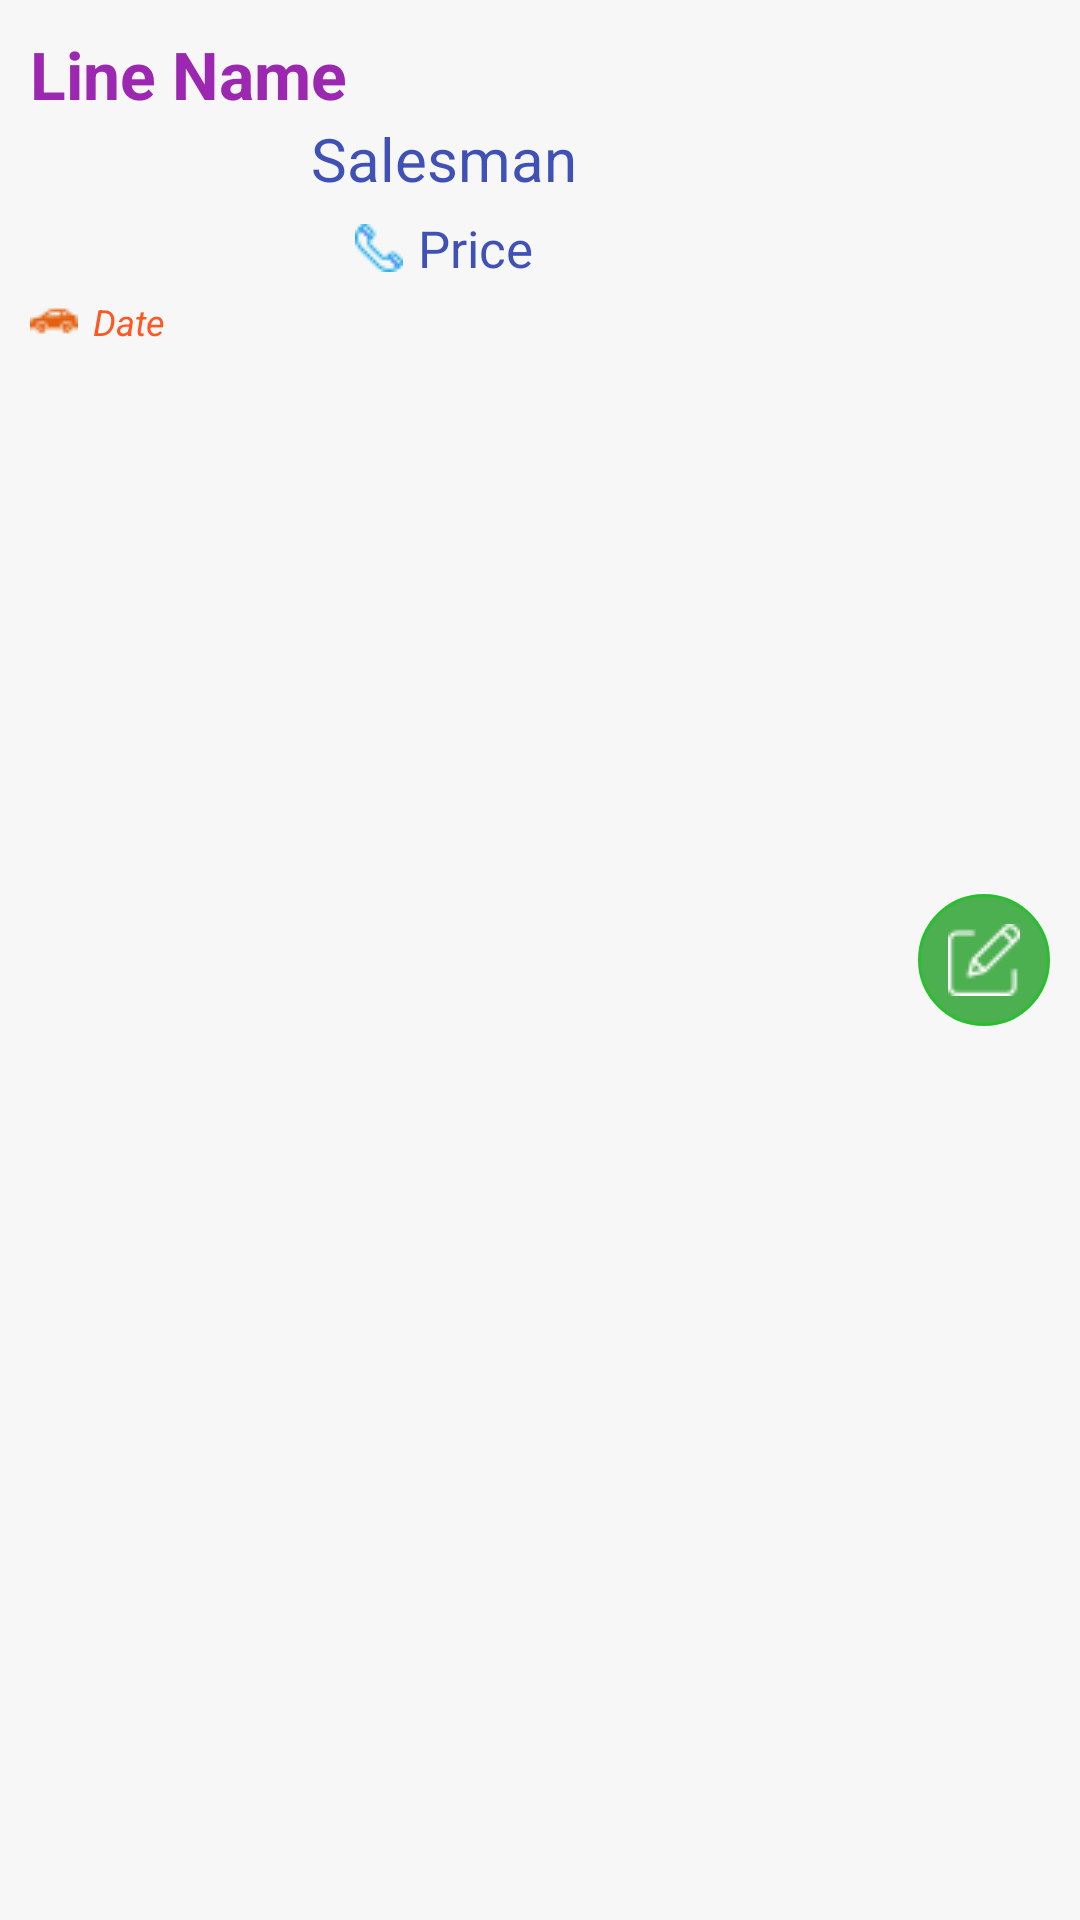

Locate icon controls on the screen. Image size 1080 × 1920, boxes as detection(x1, y1, x2, y2).
edit: detection(918, 894, 1050, 1026)
